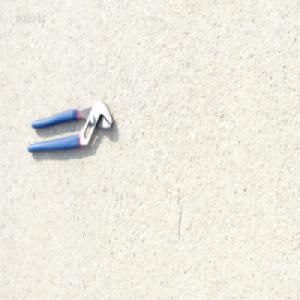Pliers: (26, 100, 114, 154)
